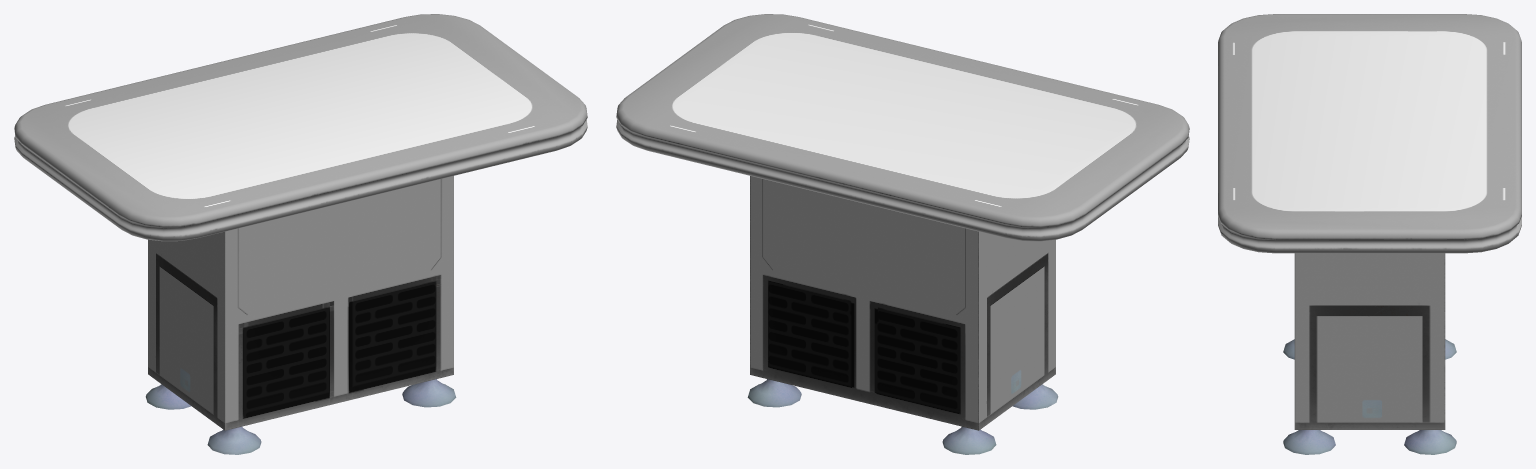
Rendered from TableHall.obj.
3 views of the same model, side by side, from view 1: azimuth 30°, elevation 25°; view 2: azimuth 150°, elevation 25°; view 3: azimuth 270°, elevation 25° (orthographic). The views are drawn at different scales.
Visible parts, largest first — view 1: TableHall; view 2: TableHall; view 3: TableHall.
Part boxes in pixels (bbox=[...]): TableHall: bbox=[14, 14, 587, 454]; TableHall: bbox=[616, 14, 1189, 454]; TableHall: bbox=[1218, 14, 1521, 454].
Size of the model in its own units: 1.2 by 0.7 by 0.7.
Materials: 1 (1 with a texture image).
